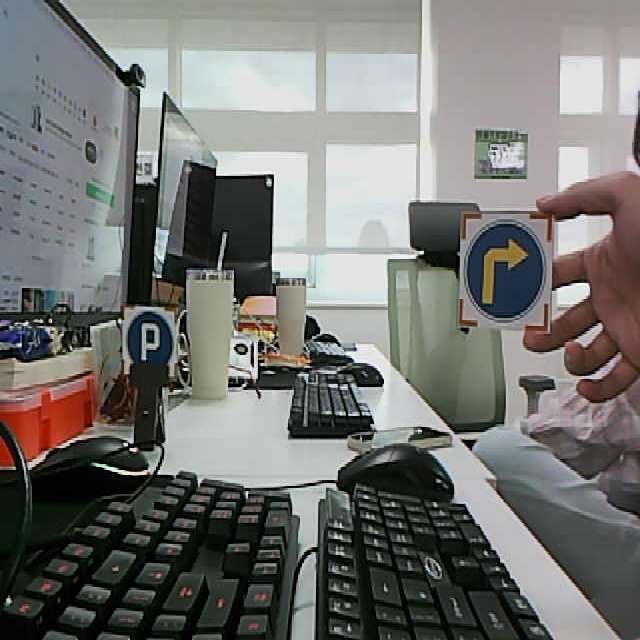right: (456, 212, 554, 334)
